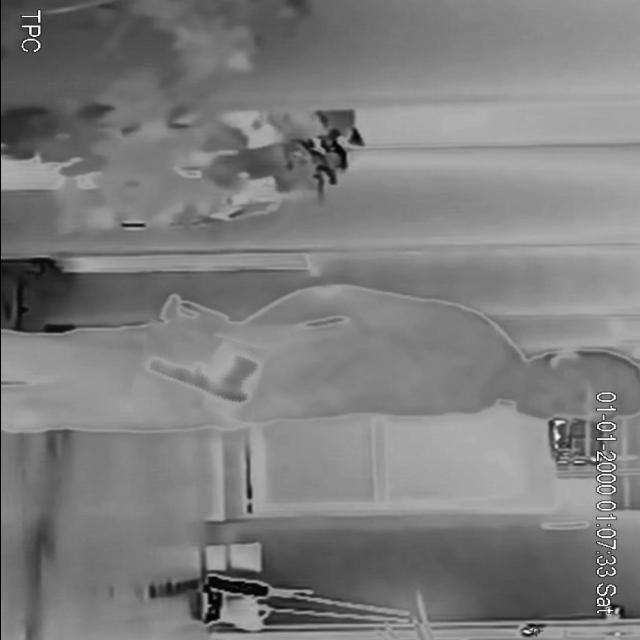Weapon: (133, 326, 263, 415)
